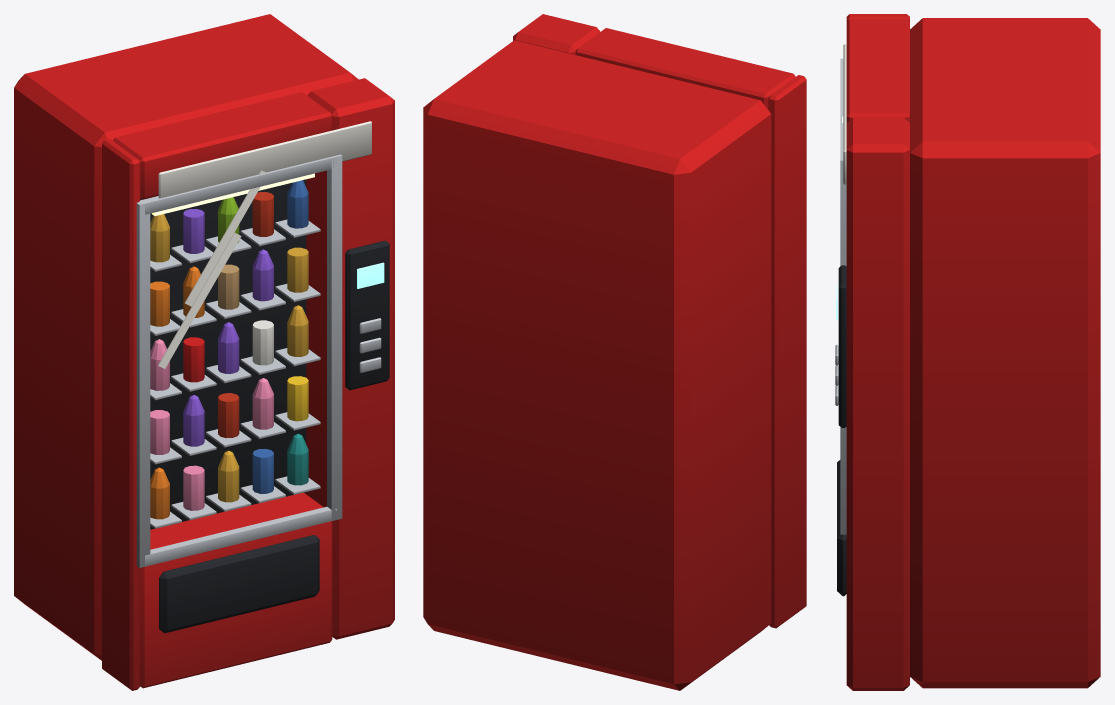
Rendered from vending_machine_01.glb.
The picture shows the model from 3 angles, left to right: view 1: azimuth 30°, elevation 25°; view 2: azimuth 150°, elevation 25°; view 3: azimuth 270°, elevation 25°; orthographic projection. The views are drawn at different scales.
Parts seen in each view (by area): view 1: vending_machine_01_LOD0; view 2: vending_machine_01_LOD0; view 3: vending_machine_01_LOD0.
Part boxes in pixels (x1,y1,x2,y2): vending_machine_01_LOD0: (14,14,394,690); vending_machine_01_LOD0: (423,14,806,690); vending_machine_01_LOD0: (835,14,1100,690).
Size of what is drawn, in the model's own units: 1 by 1.9 by 0.835.
1 material, 1 textured.
